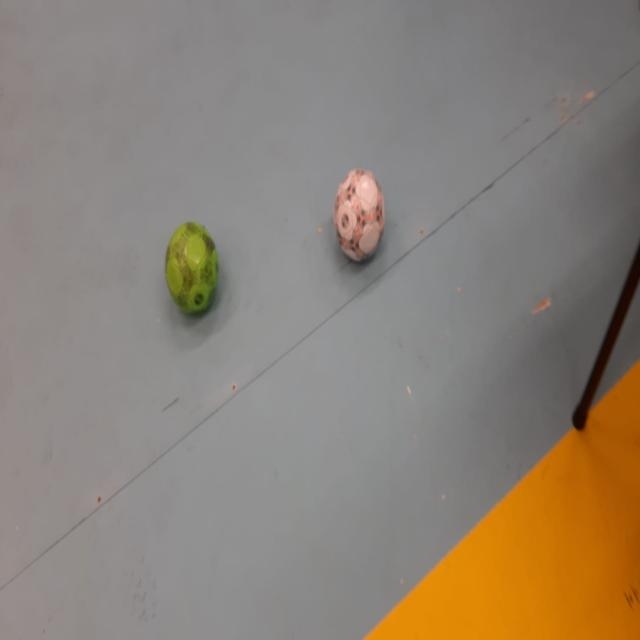ball: (166, 220, 222, 322), (332, 168, 386, 266)
